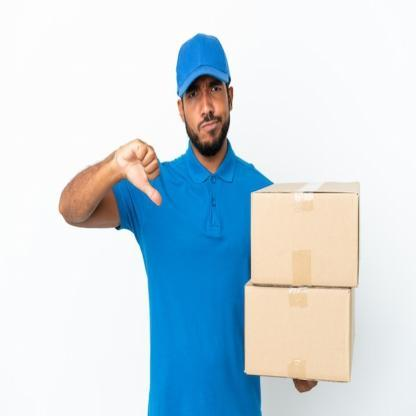thumb_down: (117, 134, 165, 209)
